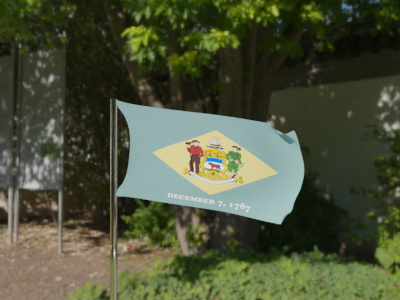Delaware flag: (117, 99, 305, 225)
